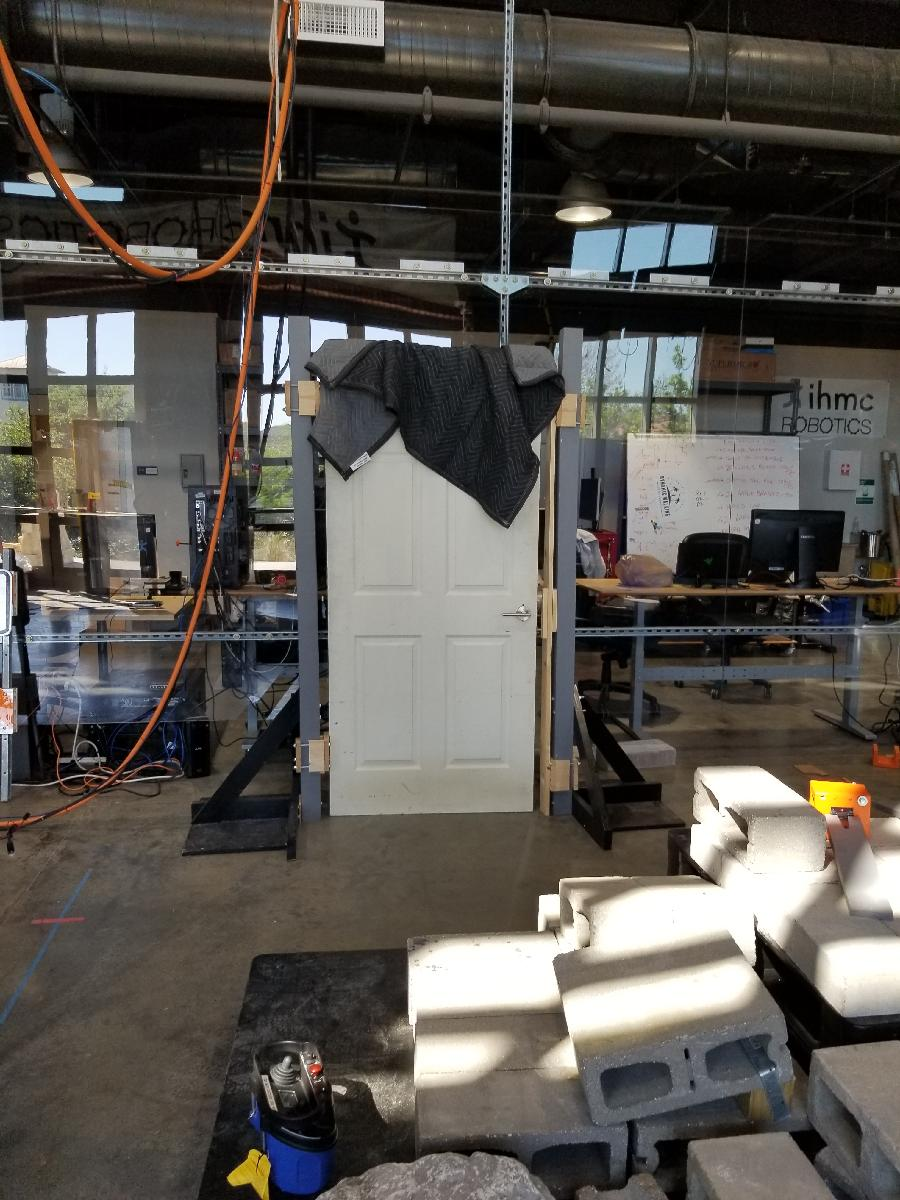door: (322, 349, 538, 824)
doorHandle: (503, 603, 533, 625)
